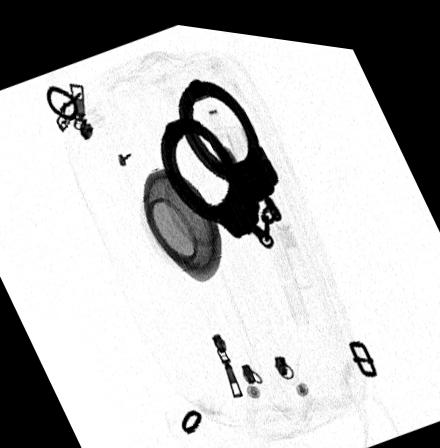HandCuffs: (155, 68, 284, 242)
